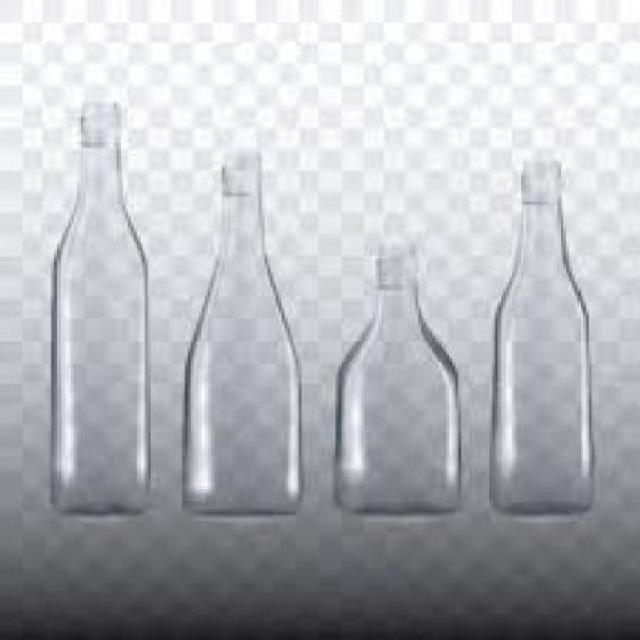kaca: (182, 154, 302, 512), (51, 111, 148, 512), (486, 160, 589, 515), (336, 244, 462, 518)
